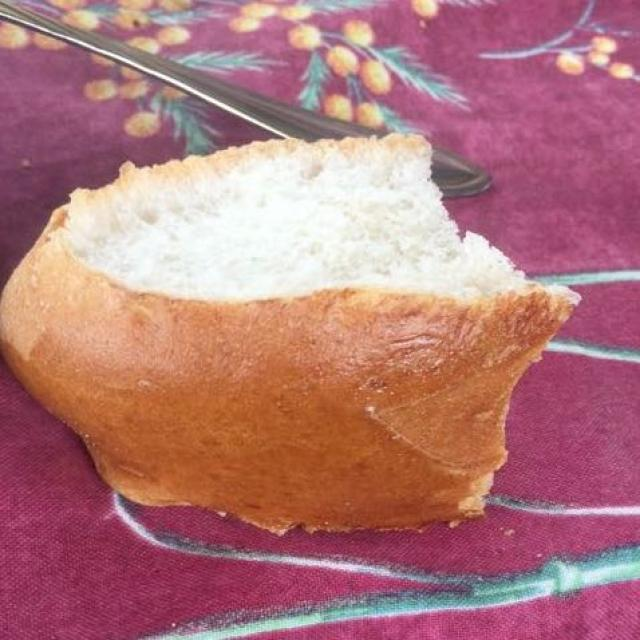thucan: (1, 134, 579, 533)
